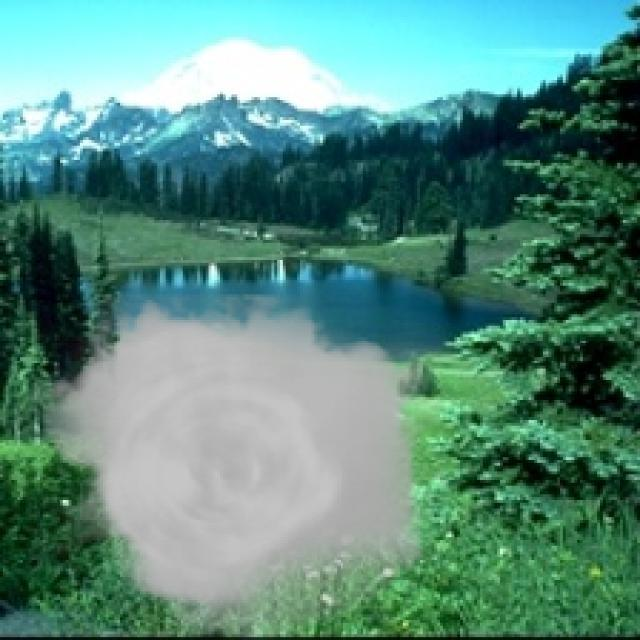Smoke: (29, 294, 448, 637)
